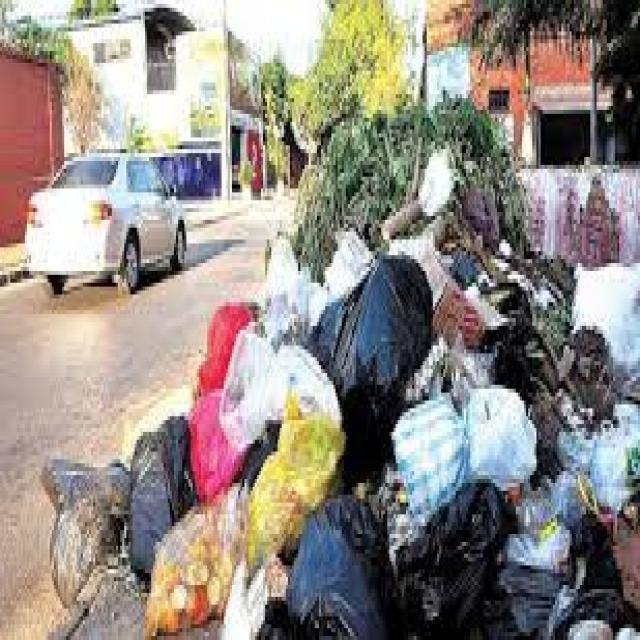Trashbag: (318, 270, 416, 418), (282, 512, 378, 639), (108, 420, 184, 568), (406, 492, 481, 638), (487, 561, 553, 621)
